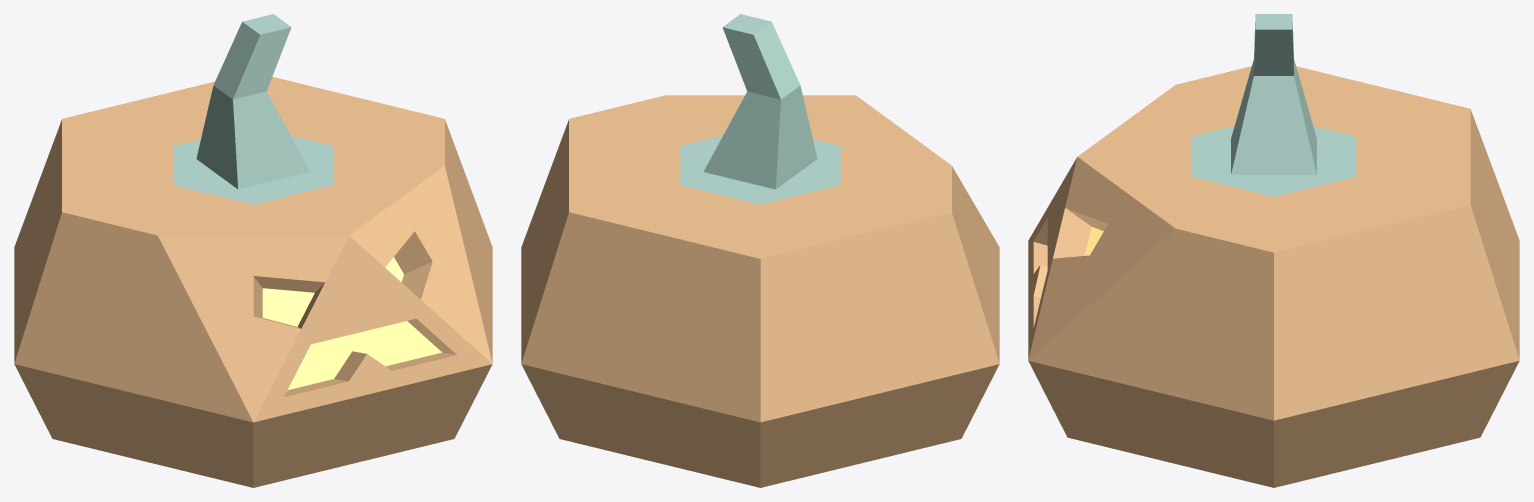
Rendered from pumpkinCarved.glb.
3 views of the same model, side by side, from view 1: azimuth 30°, elevation 25°; view 2: azimuth 150°, elevation 25°; view 3: azimuth 270°, elevation 25° (orthographic). The views are drawn at different scales.
Visible parts, largest first — view 1: pumpkinCarved(Clone); view 2: pumpkinCarved(Clone); view 3: pumpkinCarved(Clone).
Boxes of the visible parts, box(x1,y1,x2,y2) form: pumpkinCarved(Clone): box(14, 14, 492, 487); pumpkinCarved(Clone): box(521, 14, 999, 487); pumpkinCarved(Clone): box(1028, 14, 1519, 487).
Bounding box in the file's own units: 0.357 × 0.2583 × 0.3092.
